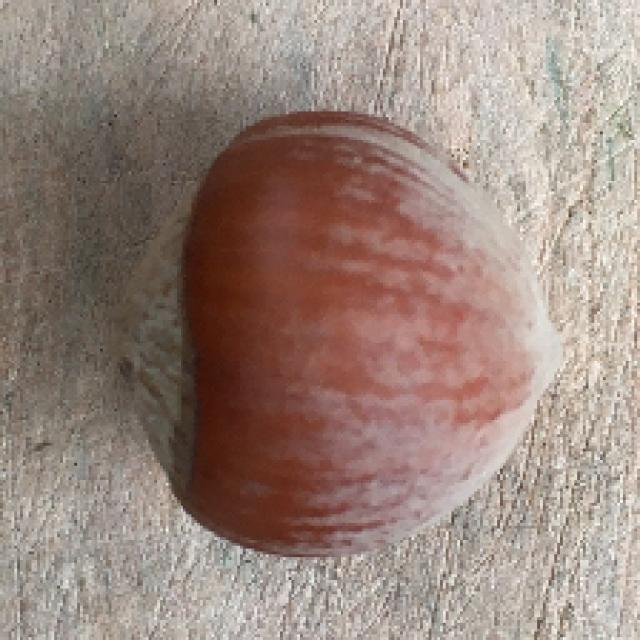qualityHazelnut: (115, 107, 570, 562)
